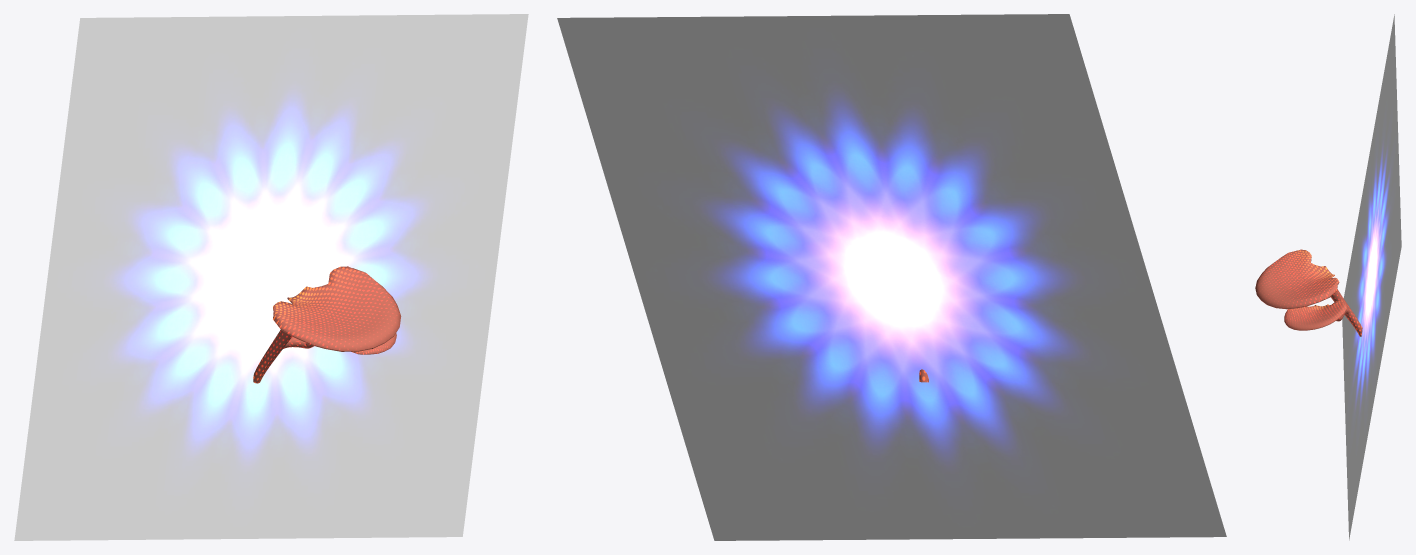
Rendered from reishi.glb.
3 renders of one model, left to right at view 1: azimuth 30°, elevation 25°; view 2: azimuth 150°, elevation 25°; view 3: azimuth 270°, elevation 25°, orthographic. The views are drawn at different scales.
Parts seen in each view (by area): view 1: fx.002, reishi; view 2: fx.002; view 3: fx.002, reishi.
Boxes of the visible parts, bbox=[...] form: fx.002: bbox=[14, 14, 528, 540]; reishi: bbox=[253, 266, 401, 383]; fx.002: bbox=[557, 14, 1226, 540]; fx.002: bbox=[1342, 14, 1401, 540]; reishi: bbox=[1255, 249, 1362, 336].
Bounding box in the file's own units: 13.54 × 13.5 × 4.4.
3 materials, 1 textured.
